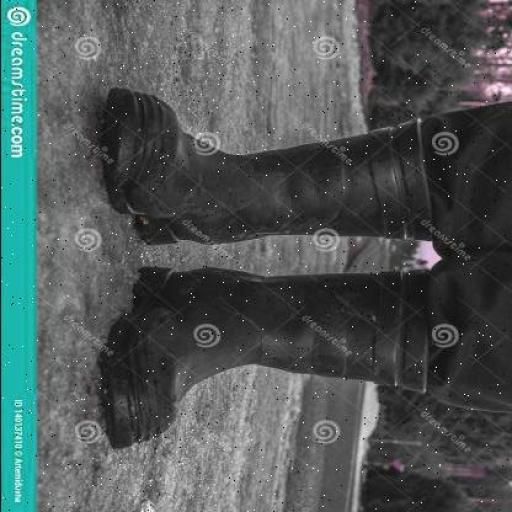safety_shoe: (92, 266, 429, 436), (100, 92, 422, 255)
